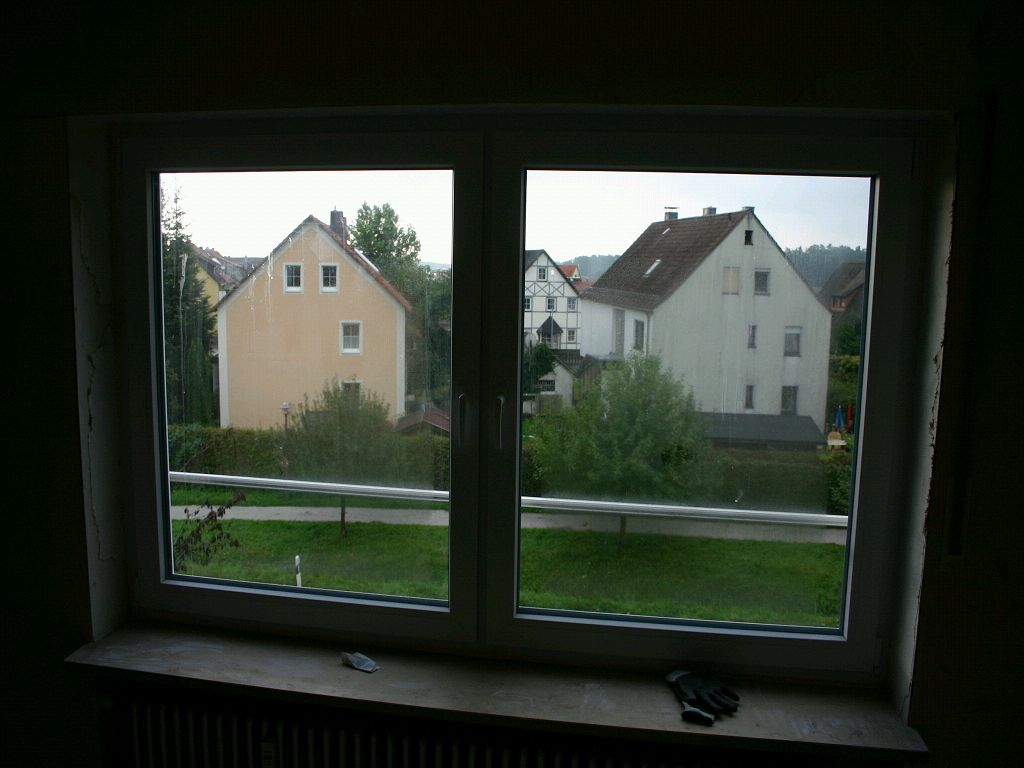windows: (117, 132, 908, 691)
